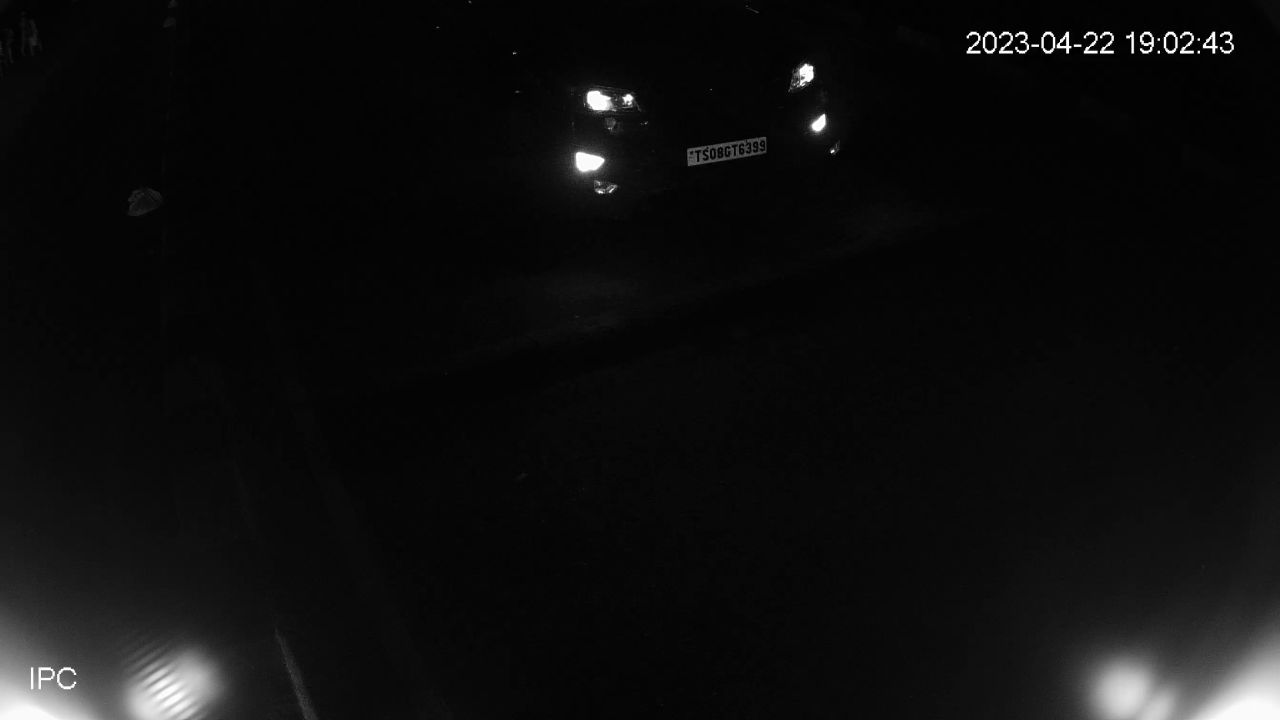license_plate: (682, 130, 774, 172)
